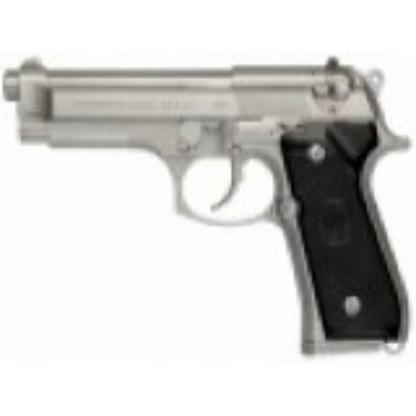gun: (5, 55, 407, 347)
